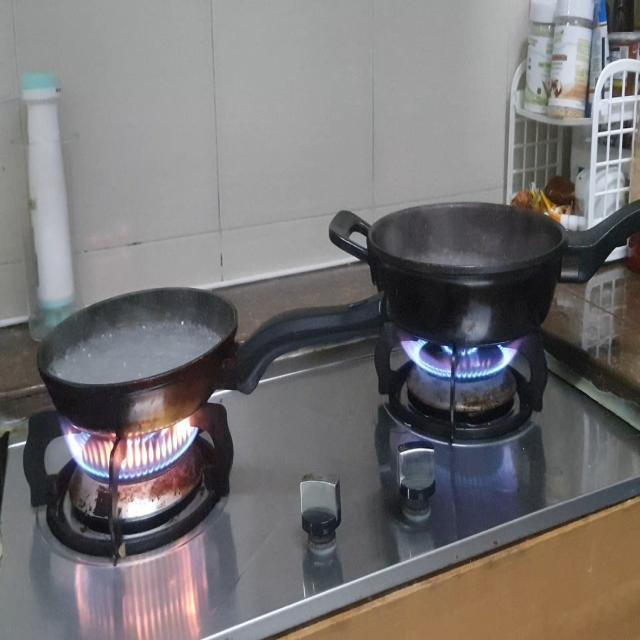Flame: (63, 417, 199, 486), (404, 337, 528, 377)
Pan: (335, 208, 626, 340), (26, 281, 270, 436)
